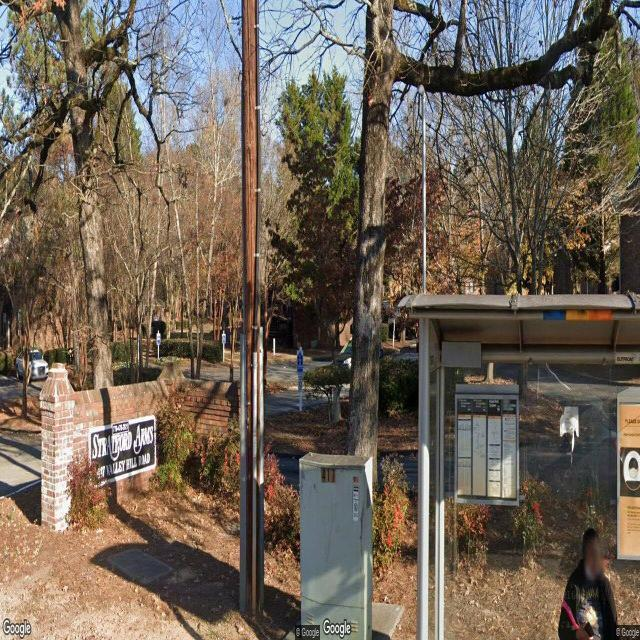shelter: (394, 288, 640, 640)
